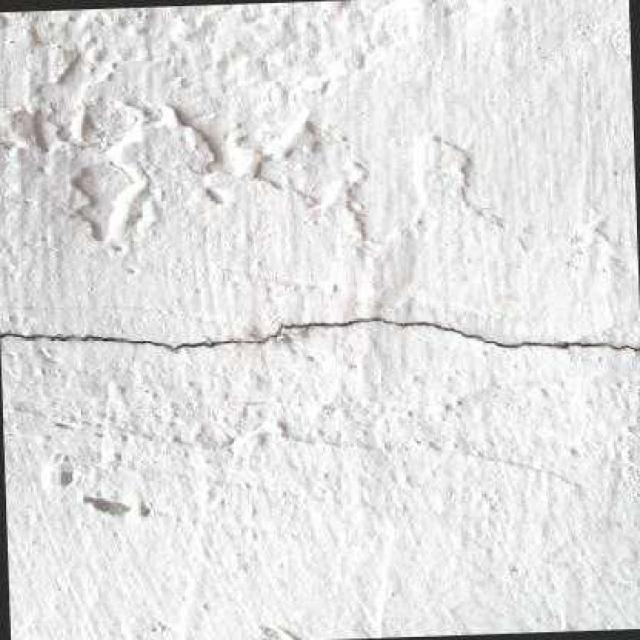D00: (0, 315, 640, 352)
